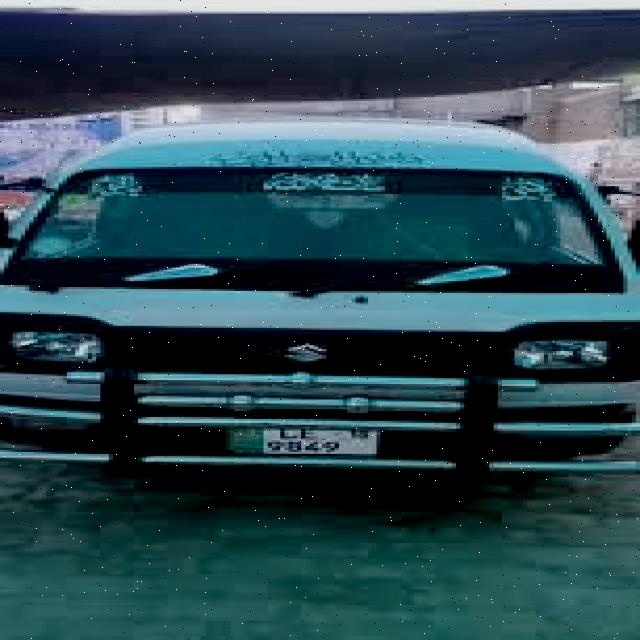Van: (0, 120, 640, 497)
